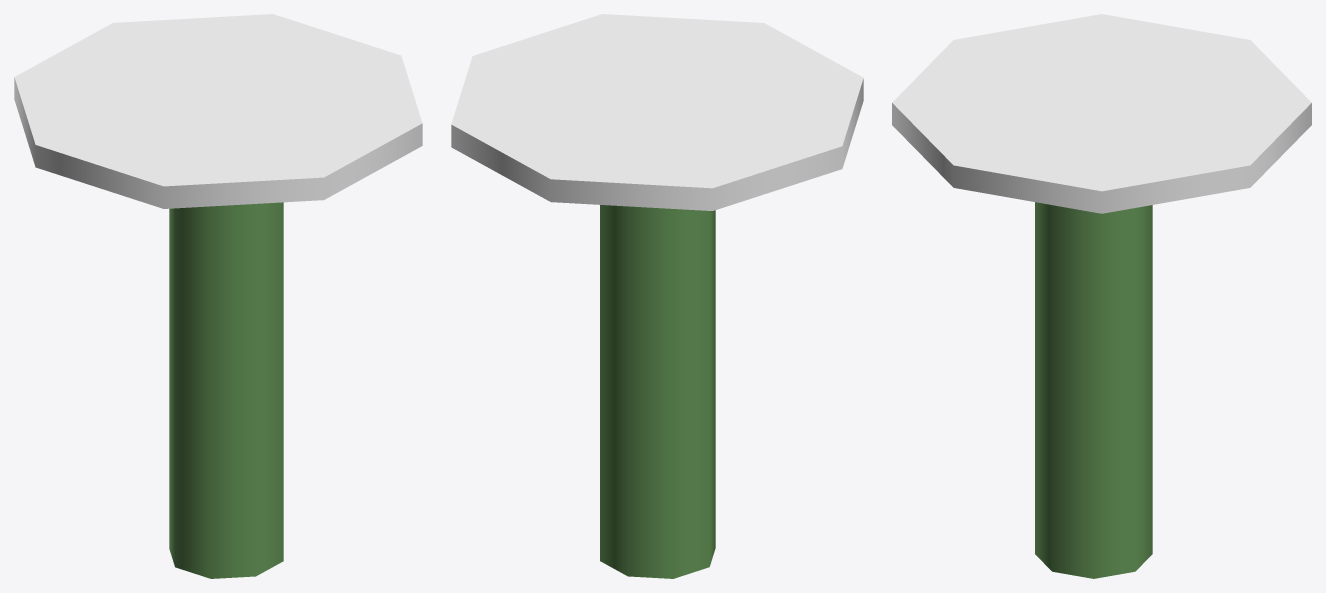
File: SM_Chairs_02.fbx
3 views of the same model, side by side, from view 1: azimuth 30°, elevation 25°; view 2: azimuth 150°, elevation 25°; view 3: azimuth 270°, elevation 25° (orthographic).
Visible parts, largest first — view 1: SM_Chairs_02; view 2: SM_Chairs_02; view 3: SM_Chairs_02.
Part boxes in pixels (bbox=[...]): SM_Chairs_02: bbox=[14, 14, 422, 578]; SM_Chairs_02: bbox=[451, 14, 863, 578]; SM_Chairs_02: bbox=[892, 14, 1311, 578].
Bounding box in the file's own units: 49.01 × 57.92 × 49.01.
Materials: 1 (1 with a texture image).
